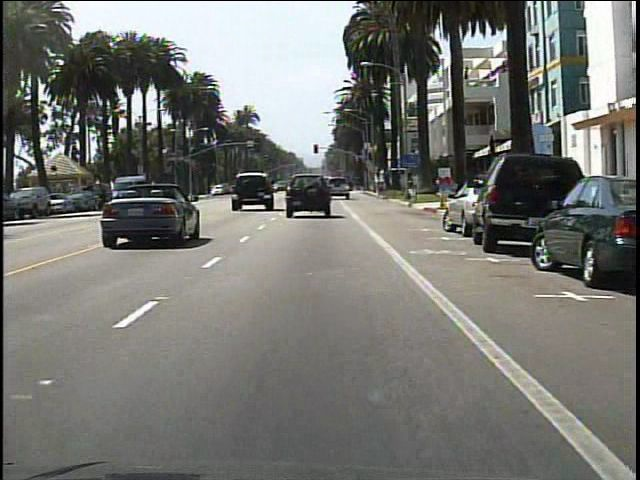person: (93, 178, 113, 214)
